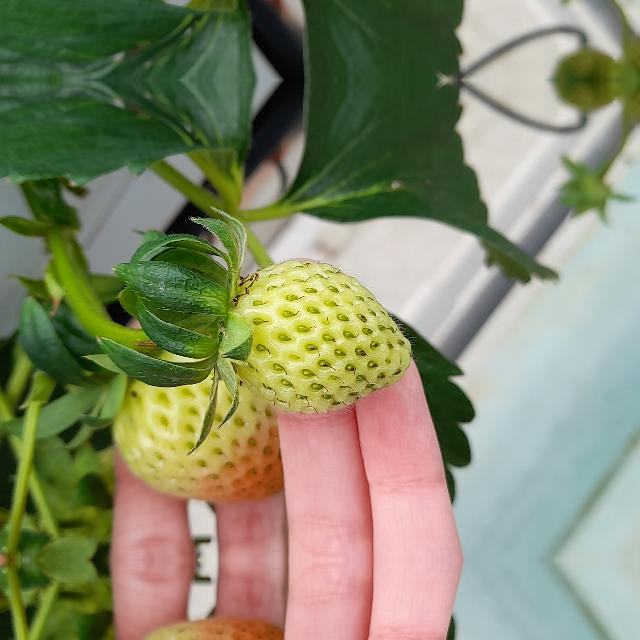Health_25: (231, 259, 411, 413)
Health_50: (118, 335, 288, 503)
